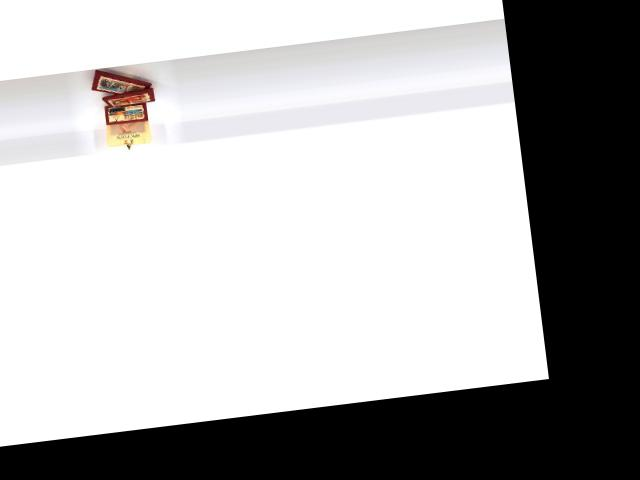chocolate: (76, 58, 156, 102)
